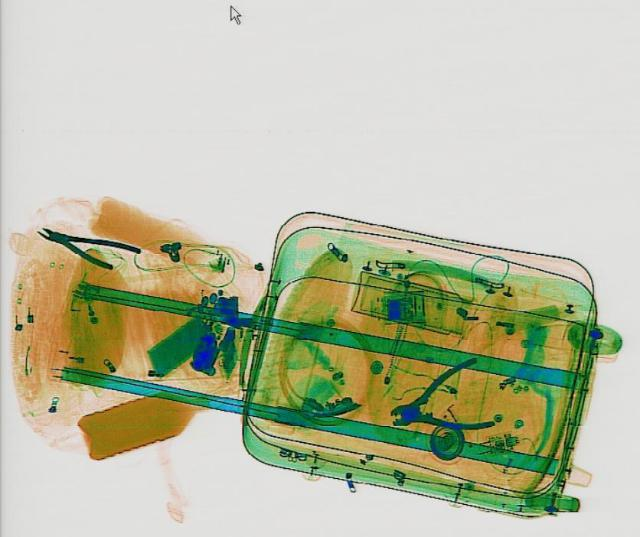Pliers: (375, 356, 505, 448), (30, 215, 140, 274)
